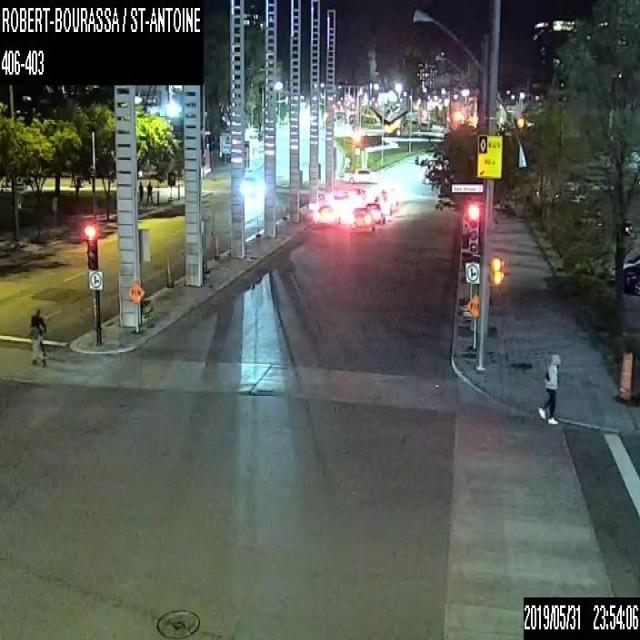construction: (138, 228, 152, 320), (127, 281, 145, 337), (200, 211, 214, 278), (466, 295, 480, 354), (618, 350, 634, 400)
pedestrian: (537, 354, 560, 426), (28, 308, 46, 365), (146, 180, 154, 203), (137, 180, 143, 203)
vehicle: (623, 252, 639, 294), (348, 207, 374, 232), (313, 204, 340, 227), (377, 188, 400, 214), (346, 167, 381, 184), (363, 202, 385, 224)
